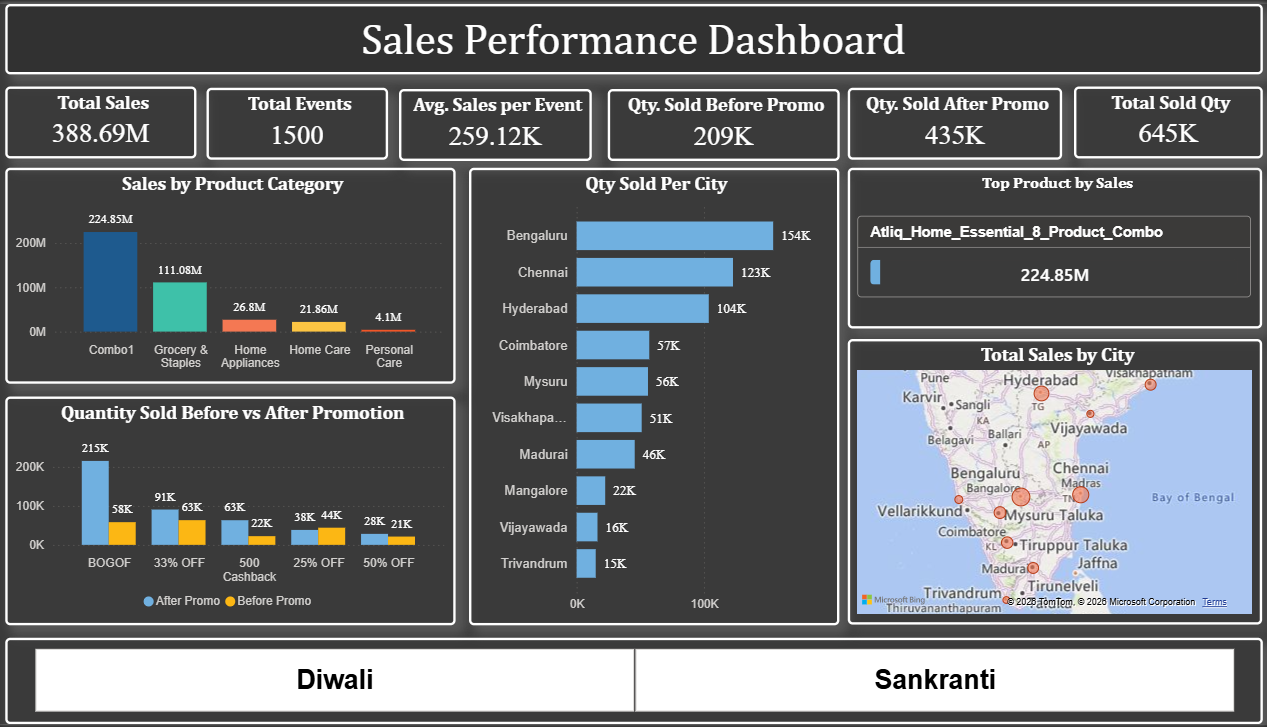

What the dashboard file says about the page in this screenshot:
{"tool":"powerbi","page":{"name":"Page 1","canvas":[1280,720],"ordinal":0},"visuals":[{"type":"textbox","box":[11.2,0,1257.5,70],"z":0},{"type":"card","title":"Total Sales","fields":{"Values":["Sum(fact_events.Total Sales)"]},"box":[11,82.2,191.4,72.4],"z":1000},{"type":"card","title":"Total Events","fields":{"Values":["Count(fact_events.event_id)"]},"box":[212.3,83.4,181.6,72.4],"z":2000},{"type":"card","title":"Avg. Sales per Event","fields":{"Values":["fact_events.Avg_sale"]},"box":[404.9,84.7,192.6,72.4],"z":3000},{"type":"card","title":"Qty. Sold Before Promo","fields":{"Values":["Sum(fact_events.quantity_sold(before_promo))"]},"box":[613.5,84.7,231.9,72.4],"z":4000},{"type":"card","title":"Qty. Sold After Promo","fields":{"Values":["Sum(fact_events.quantity_sold(after_promo))"]},"box":[854,83.4,214.7,72.4],"z":5000},{"type":"clusteredColumnChart","title":"Sales by Product Category","fields":{"Category":["dim_products.category"],"Y":["Sum(fact_events.Total Sales)"]},"box":[11.2,163.8,450,216.2],"z":6000},{"type":"clusteredColumnChart","title":"Quantity Sold Before vs After Promotion","fields":{"Category":["fact_events.promo_type"],"Y":["Sum(fact_events.quantity_sold(after_promo))","Sum(fact_events.quantity_sold(before_promo))"]},"box":[11.2,392.5,450,228.8],"z":7000},{"type":"clusteredBarChart","title":"Qty Sold Per City","fields":{"Category":["dim_stores.city"],"Y":["Sum(fact_events.Total_Quantity)"]},"box":[475,163.8,370,457.5],"z":8000},{"type":"cardVisual","title":"Top Product by Sales","fields":{"Data":["Sum(fact_events.Total Sales)"],"Rows":["dim_products.product_name"]},"box":[854,163.2,414.7,160.7],"z":9000},{"type":"map","title":"Total Sales by City","fields":{"Category":["dim_stores.city"],"Size":["fact_events.TotalSales"]},"box":[854,335,414.7,285.9],"z":10000},{"type":"slicer","fields":{"Values":["dim_campaigns.campaign_name"]},"box":[11.2,633.8,1257.5,86.2],"z":11000},{"type":"card","title":"Total Sold Qty","fields":{"Values":["Sum(fact_events.Total_Quantity)"]},"box":[1079.8,82.2,189,72.4],"z":11001}]}

Visuals, with their boxes in screenshot pixels (x1, y1, x2, y2), scaled from the page's 1280x720 canvas onto the 1267x727 screenshot:
textbox: 11 0 1256 71
"Total Sales" card: 11 83 200 156
"Total Events" card: 210 84 390 157
"Avg. Sales per Event" card: 401 86 591 159
"Qty. Sold Before Promo" card: 607 86 837 159
"Qty. Sold After Promo" card: 845 84 1058 157
"Sales by Product Category" clusteredColumnChart: 11 165 457 384
"Quantity Sold Before vs After Promotion" clusteredColumnChart: 11 396 457 627
"Qty Sold Per City" clusteredBarChart: 470 165 836 627
"Top Product by Sales" cardVisual: 845 165 1256 327
"Total Sales by City" map: 845 338 1256 627
slicer - dim_campaigns.campaign_name: 11 640 1256 726
"Total Sold Qty" card: 1069 83 1256 156
